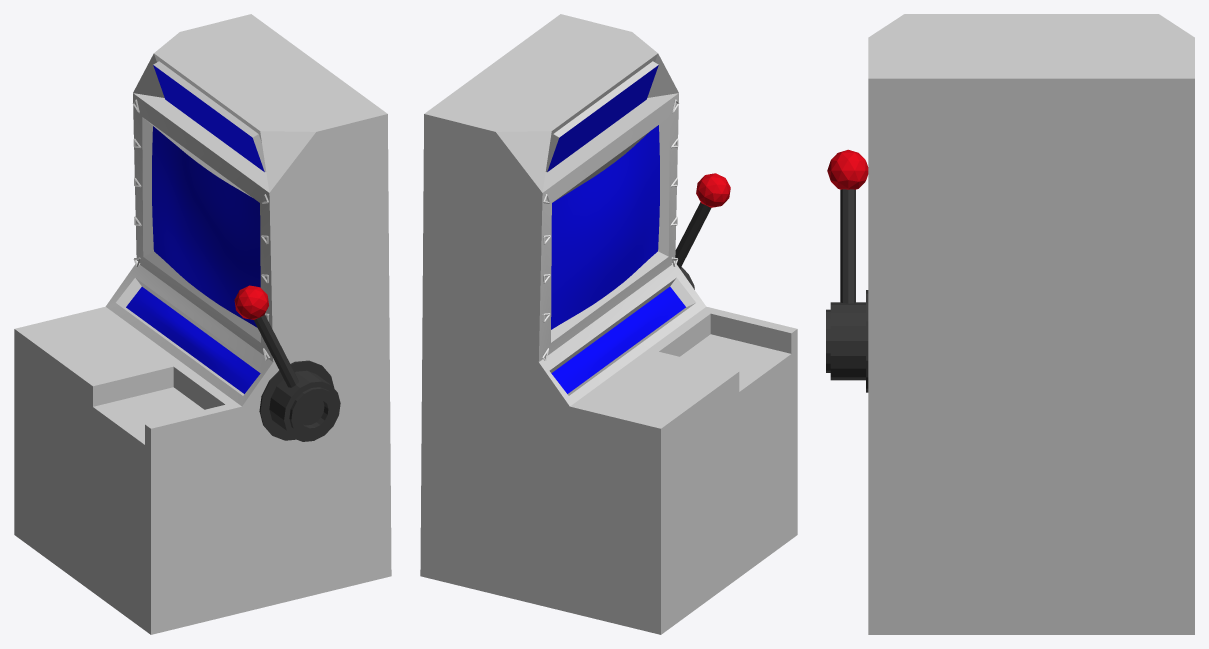
File: SlotMachine.fbx
3 renders of one model, left to right at view 1: azimuth 30°, elevation 25°; view 2: azimuth 150°, elevation 25°; view 3: azimuth 270°, elevation 25°, orthographic. The views are drawn at different scales.
Parts seen in each view (by area): view 1: SlotMachine, CenterScreen, Lever, BottomScreen, TopScreen; view 2: SlotMachine, CenterScreen, BottomScreen, TopScreen, Lever; view 3: SlotMachine, Lever.
Part boxes in pixels (x1,y1,x2,y2): SlotMachine: (14,14,391,634); CenterScreen: (152,126,260,327); Lever: (234,285,340,441); BottomScreen: (126,287,260,393); TopScreen: (153,65,264,171); SlotMachine: (420,14,797,634); CenterScreen: (551,125,659,329); BottomScreen: (551,286,685,393); TopScreen: (547,65,658,171); Lever: (675,173,730,289); SlotMachine: (868,14,1194,634); Lever: (826,149,868,392).
Bounding box in the file's own units: 203 × 226 × 374.
